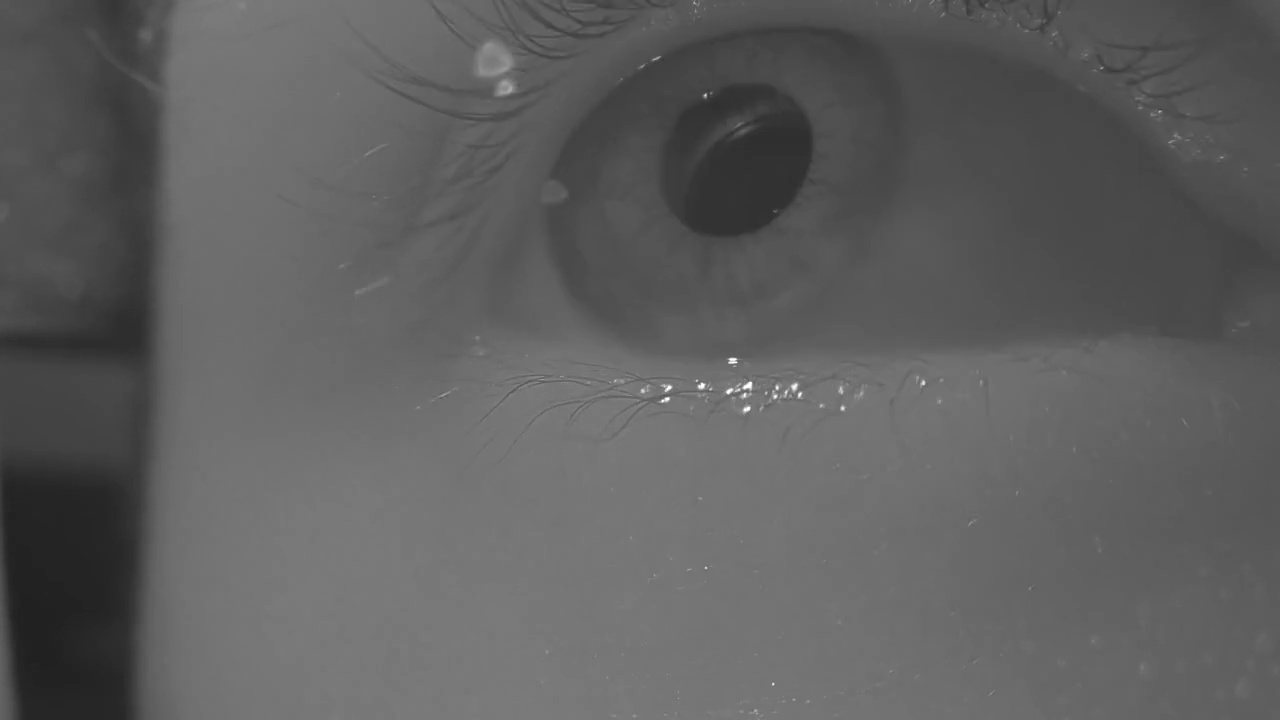pupil: (663, 85, 815, 238)
